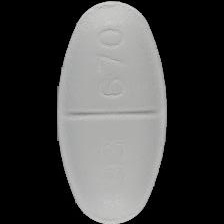67046-230: (0, 0, 224, 224)
